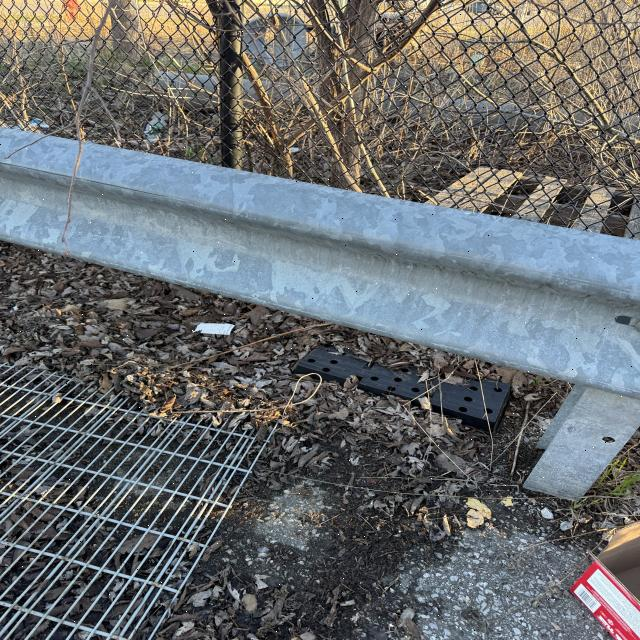Guard rail: (2, 139, 615, 349)
